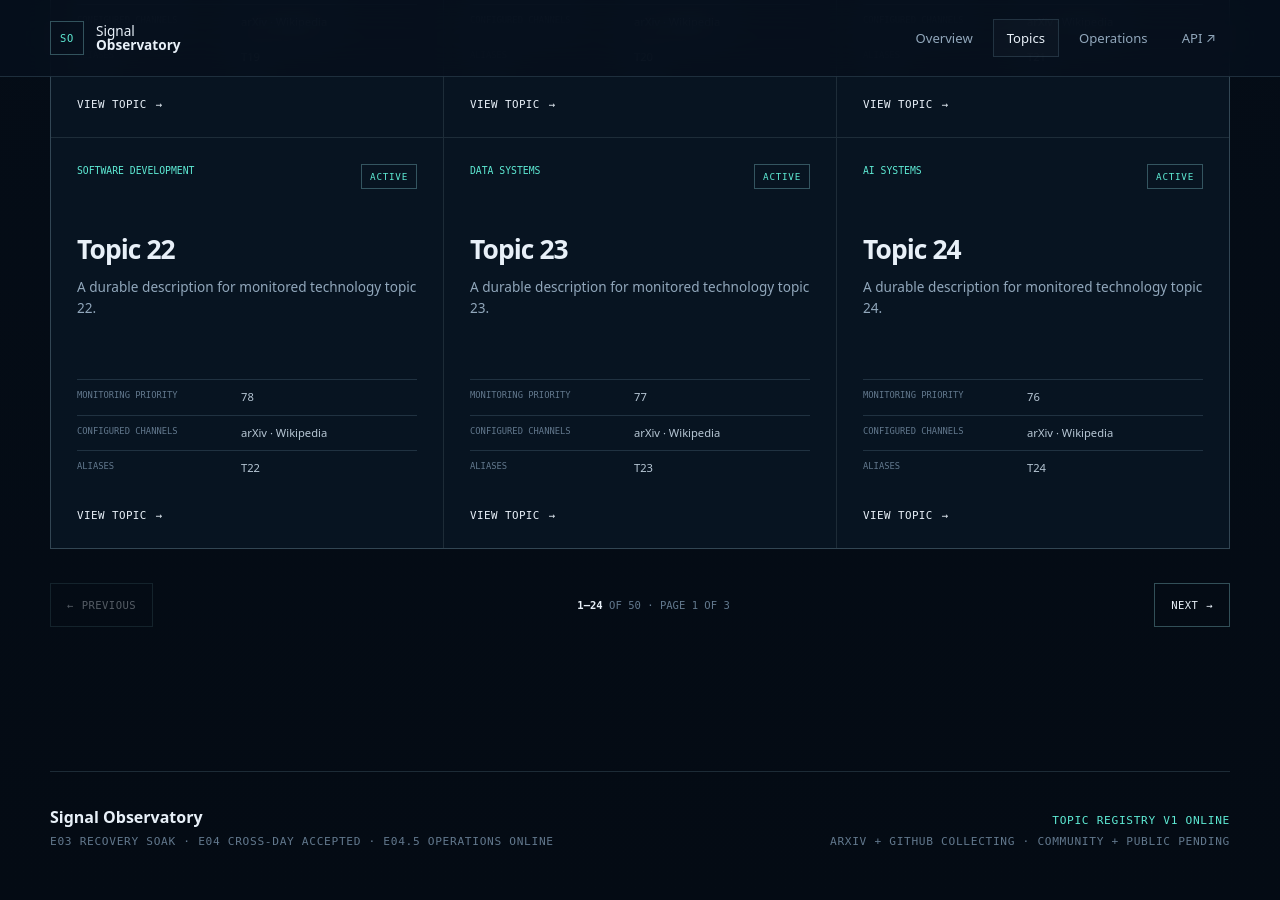
it: Topic Explorer › paginates with the API and resets page state through the URL
The width and height of the screenshot is (1280, 900).
(page scrolled)
Expected: the text "1–24" is shown, [577,599,603,611]
Click the button "Next →". click: (1192, 605)
box: [1154,583,1230,627]
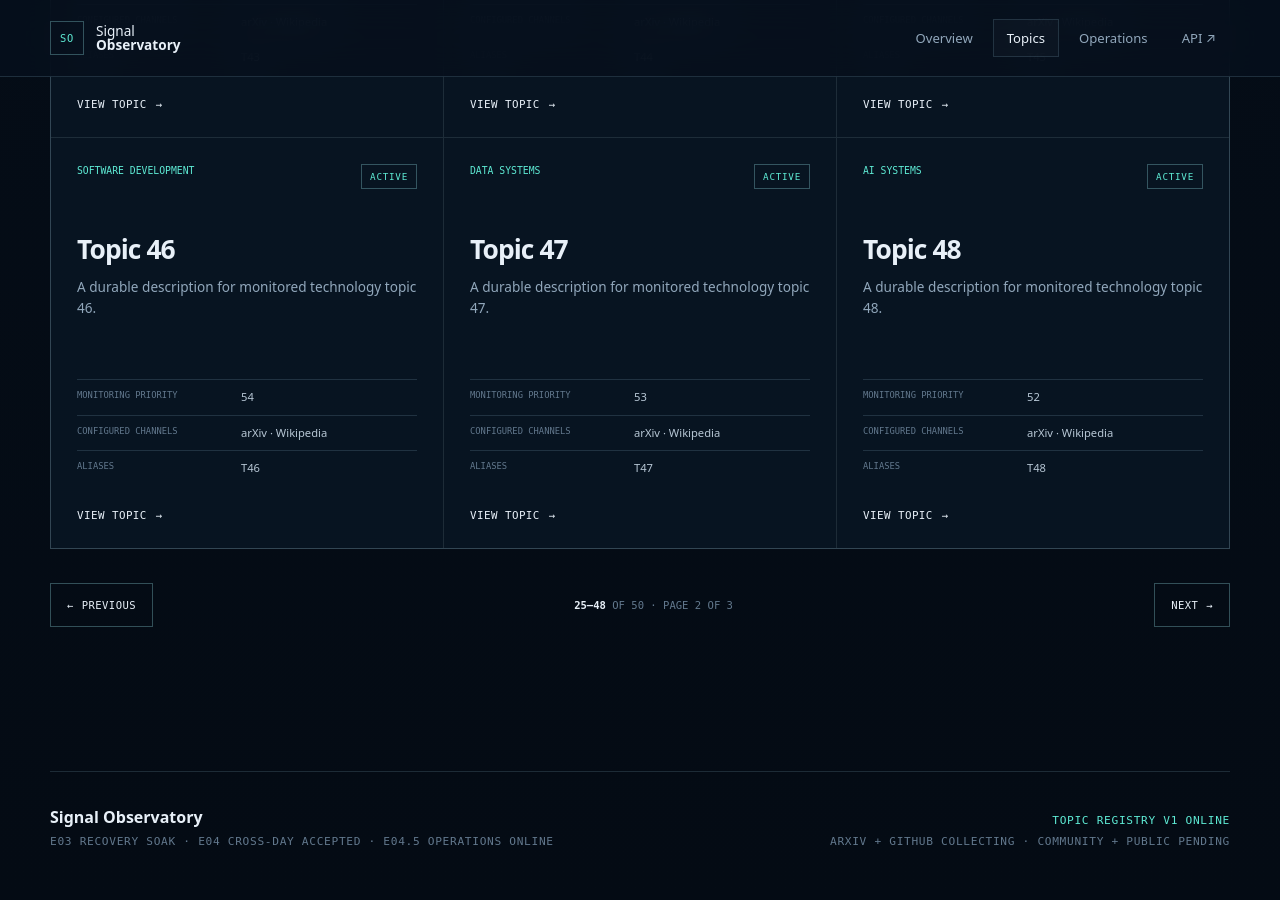
Now the text "25–48" is shown, box [574,599,606,611]
